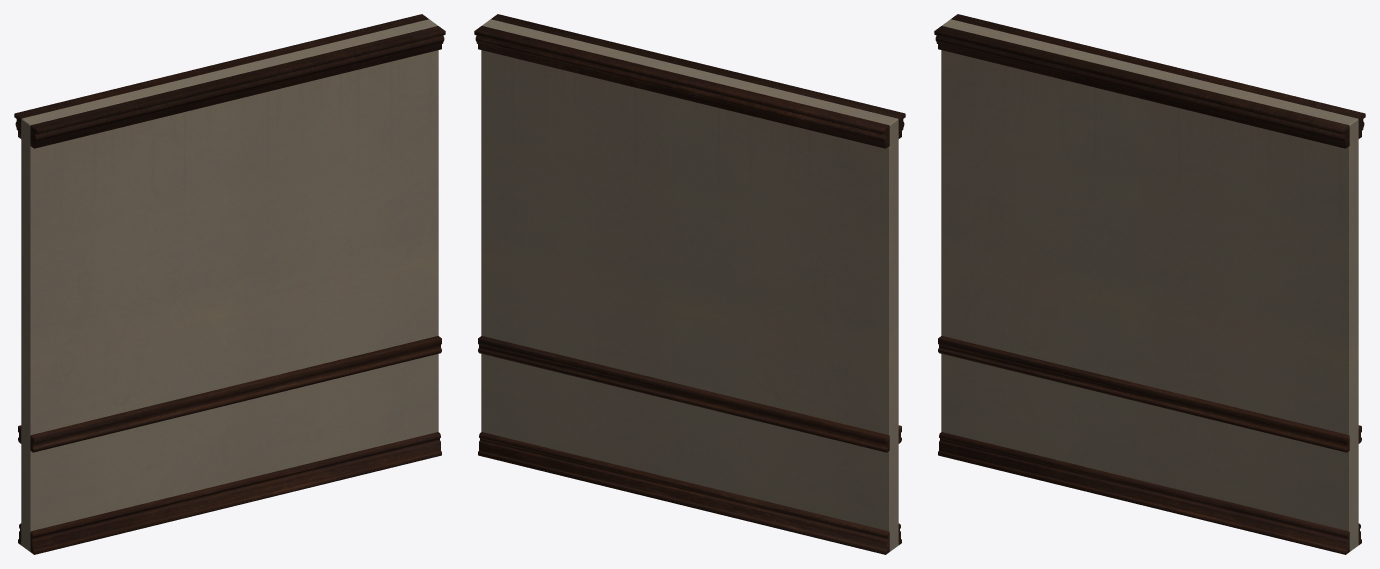
Rendered from SK1 WALL2 INT.fbx.
3 renders of one model, left to right at view 1: azimuth 30°, elevation 25°; view 2: azimuth 150°, elevation 25°; view 3: azimuth 330°, elevation 25°, orthographic.
Parts seen in each view (by area): view 1: SK1 WALL2 INT; view 2: SK1 WALL2 INT; view 3: SK1 WALL2 INT.
Boxes of the visible parts, box(x1,y1,x2,y2) form: SK1 WALL2 INT: box(14, 14, 445, 554); SK1 WALL2 INT: box(474, 14, 905, 554); SK1 WALL2 INT: box(934, 14, 1365, 554).
Bounding box in the file's own units: 400 × 400 × 39.93.
